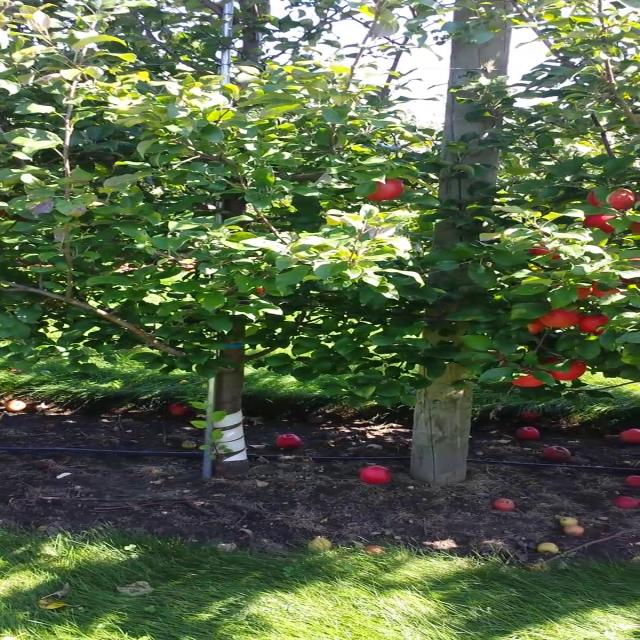apple: (536, 296, 590, 330), (534, 352, 588, 382), (584, 184, 639, 212), (356, 170, 404, 202), (578, 208, 624, 238), (502, 365, 550, 388), (526, 238, 564, 264), (591, 273, 629, 299), (578, 308, 612, 337), (617, 256, 639, 288), (514, 319, 546, 335), (570, 278, 586, 298), (625, 215, 637, 239)
